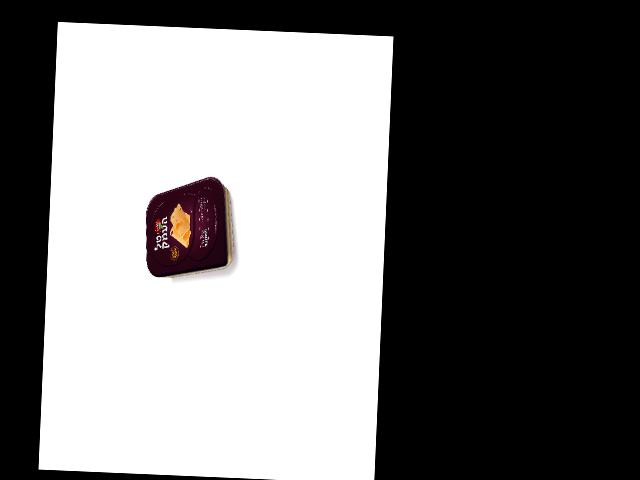cheese: (142, 173, 236, 280)
